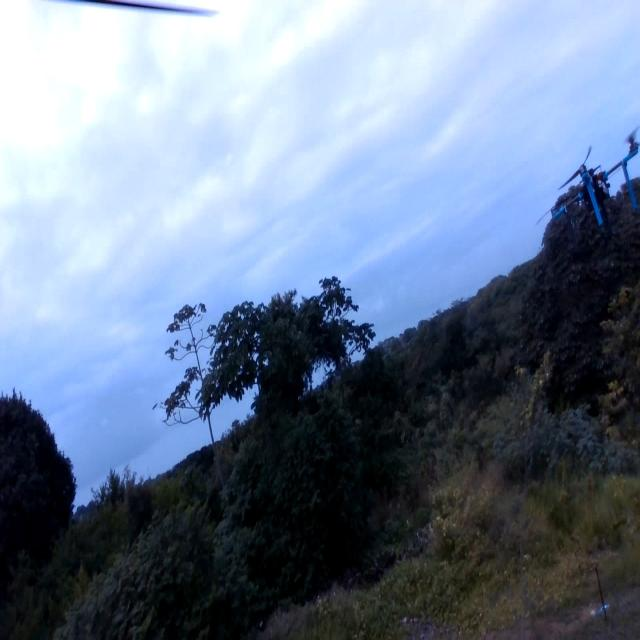-uav-: (526, 114, 640, 254)
